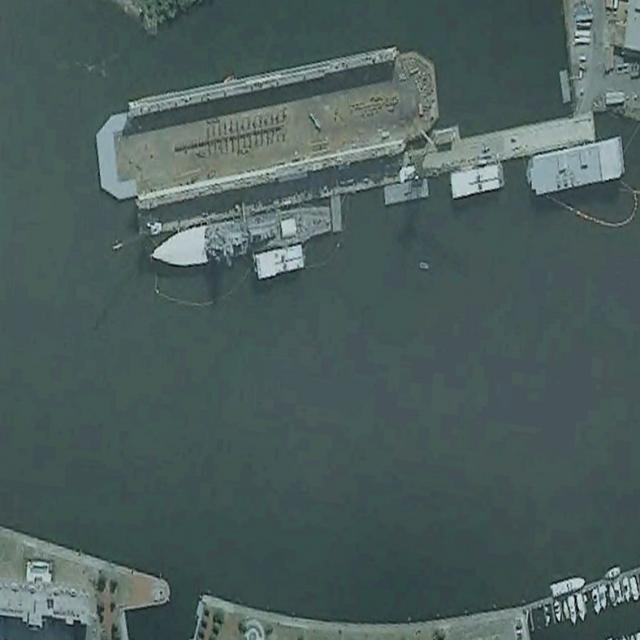Other Warship: (150, 198, 332, 275)
